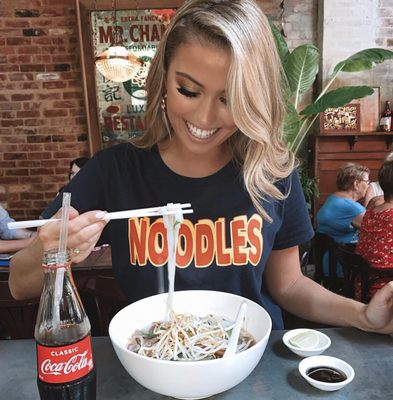sushi: (108, 290, 272, 399), (298, 355, 355, 392), (282, 328, 331, 358)
